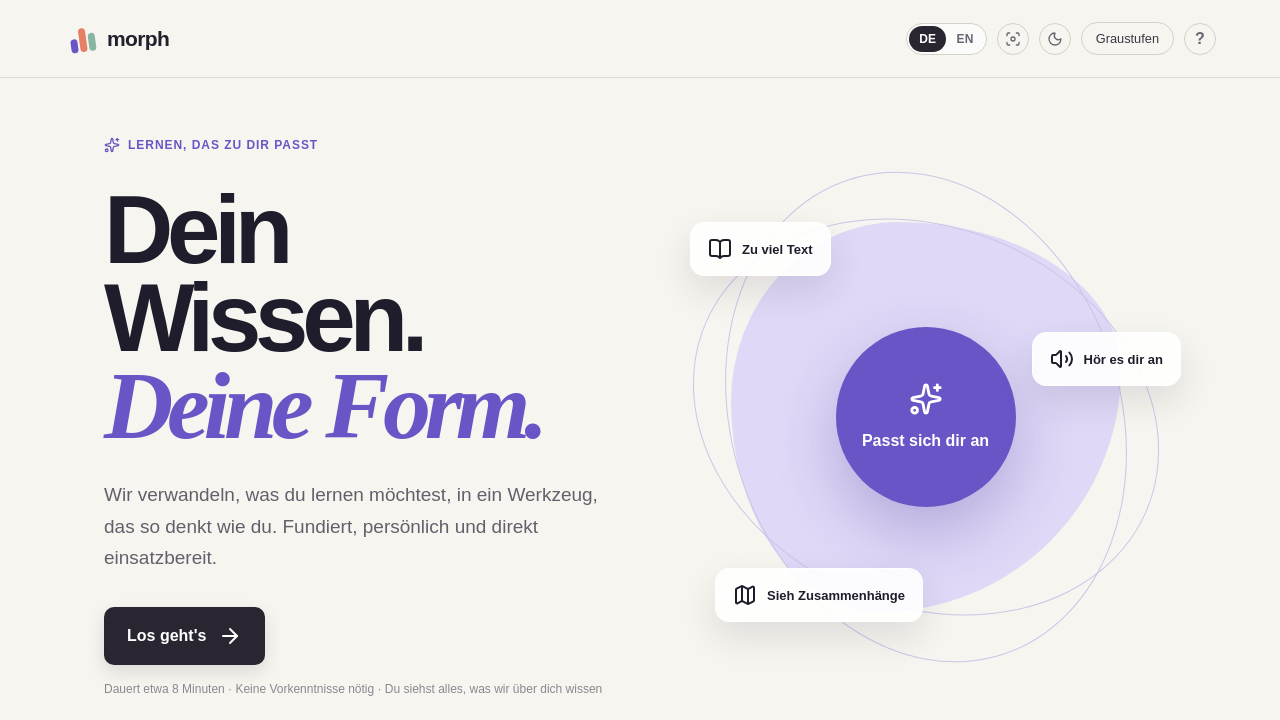
Scenario: App › switches the whole site to English and remembers it
Step 1. Click the button with aria-label "Englisch" → [965, 38], box [946, 26, 984, 52]
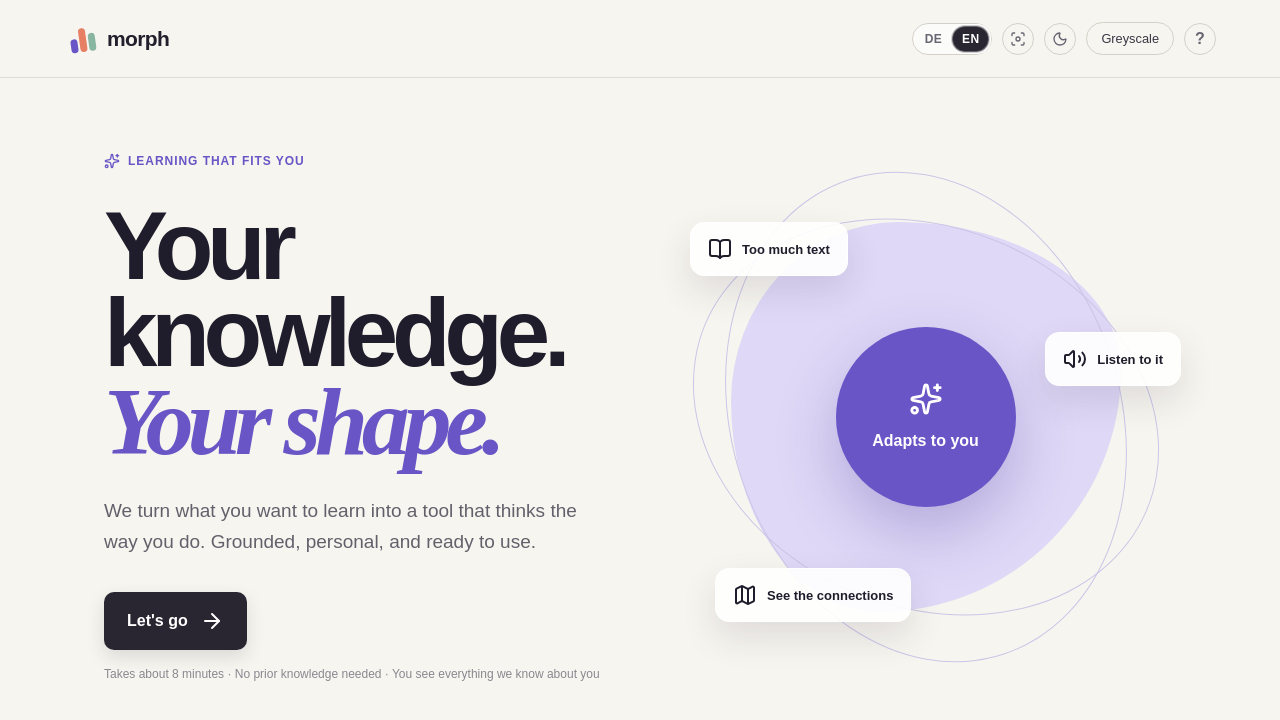
expect the heading "Your knowledge.Your shape." is shown: met, box [104, 202, 605, 465]
expect the button "Let's go" is shown: met, box [104, 592, 247, 650]
